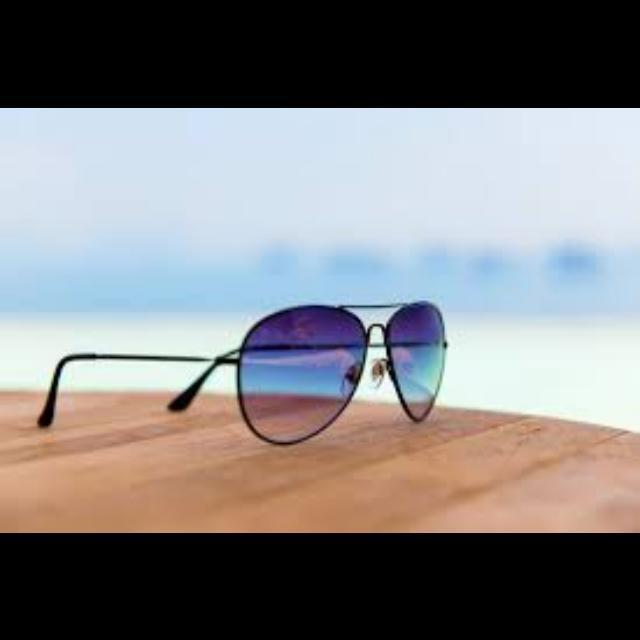sunglasses: (11, 302, 468, 430)
